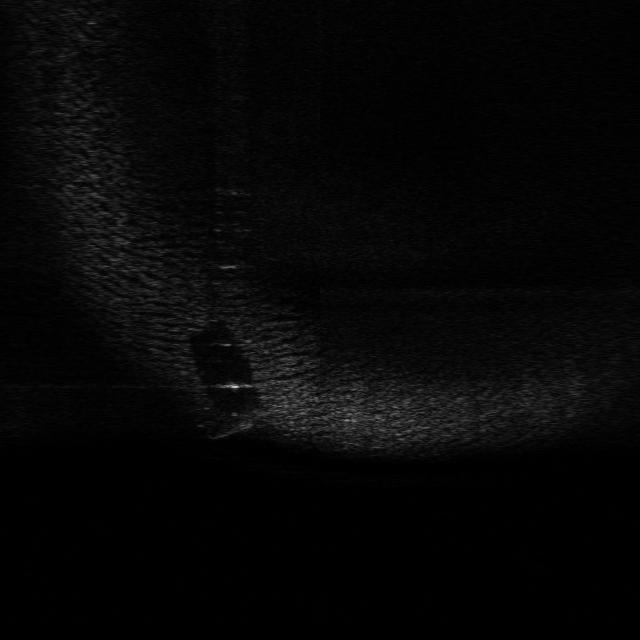cube: (187, 400, 254, 441)
